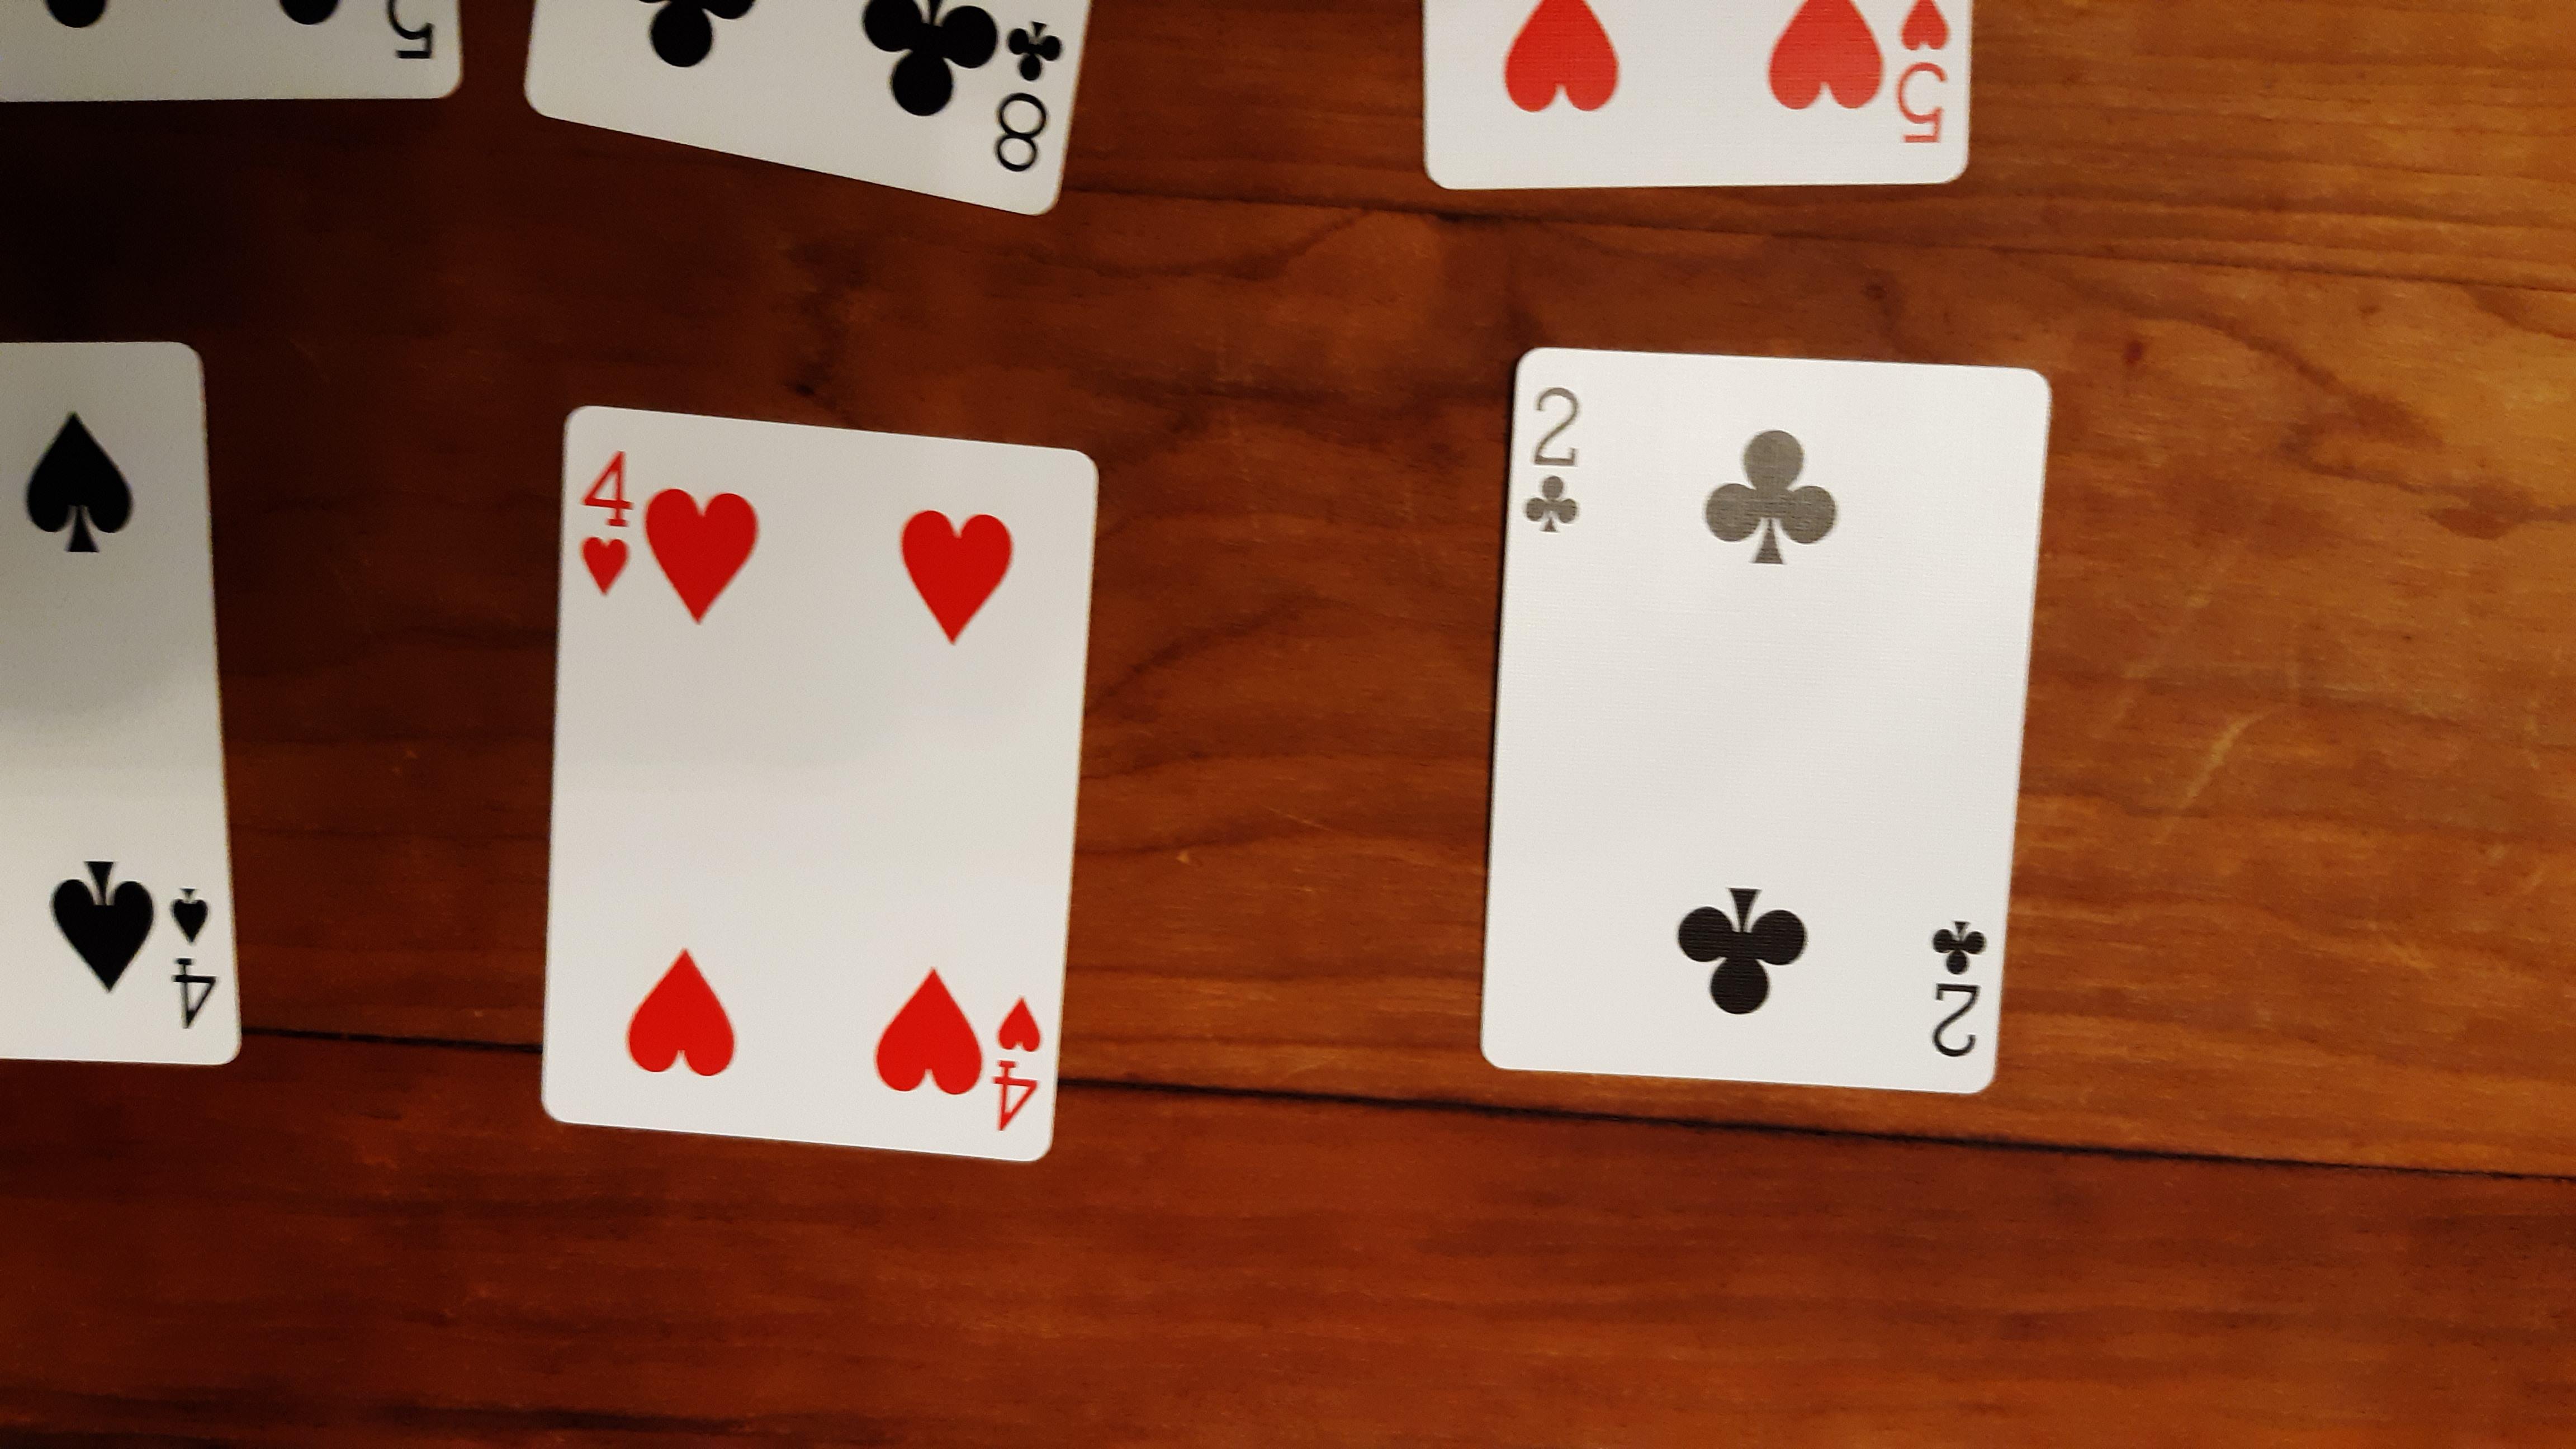Black_Club_2: (1927, 908, 1997, 1067), (1522, 380, 1587, 538)
Black_Club_8: (991, 12, 1062, 179)
Black_Spade_4: (161, 879, 228, 1028)
Red_Heart_4: (575, 446, 640, 605), (993, 987, 1044, 1139)
Red_Heart_5: (1897, 4, 1959, 147)
